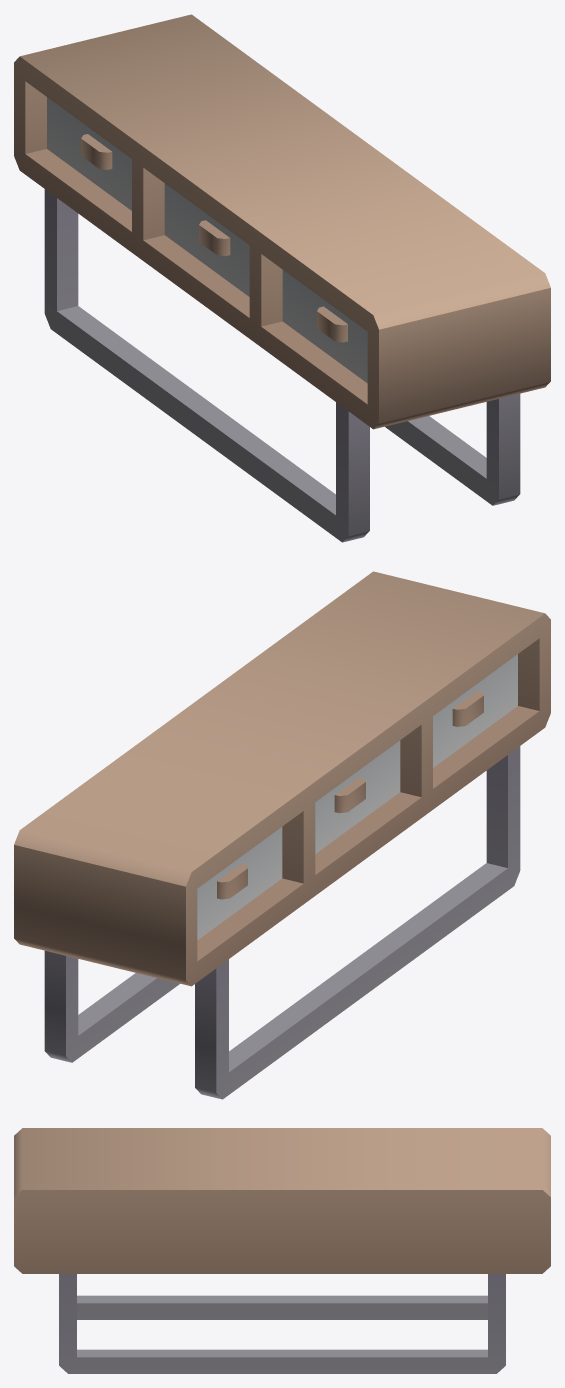
The model's file is sidetable-drawers-frame-wide.glb.
3 views of the same model, one above another, from view 1: azimuth 30°, elevation 25°; view 2: azimuth 150°, elevation 25°; view 3: azimuth 270°, elevation 25° (orthographic). The views are drawn at different scales.
Visible parts, largest first — view 1: sidetable-drawers-frame-wide; view 2: sidetable-drawers-frame-wide; view 3: sidetable-drawers-frame-wide.
Boxes of the visible parts, left/top/right/bottom form: sidetable-drawers-frame-wide: left=14, top=14, right=550, bottom=542; sidetable-drawers-frame-wide: left=14, top=571, right=550, bottom=1099; sidetable-drawers-frame-wide: left=14, top=1128, right=550, bottom=1373.
Size of the model in its own units: 0.4 by 0.556 by 1.47.
